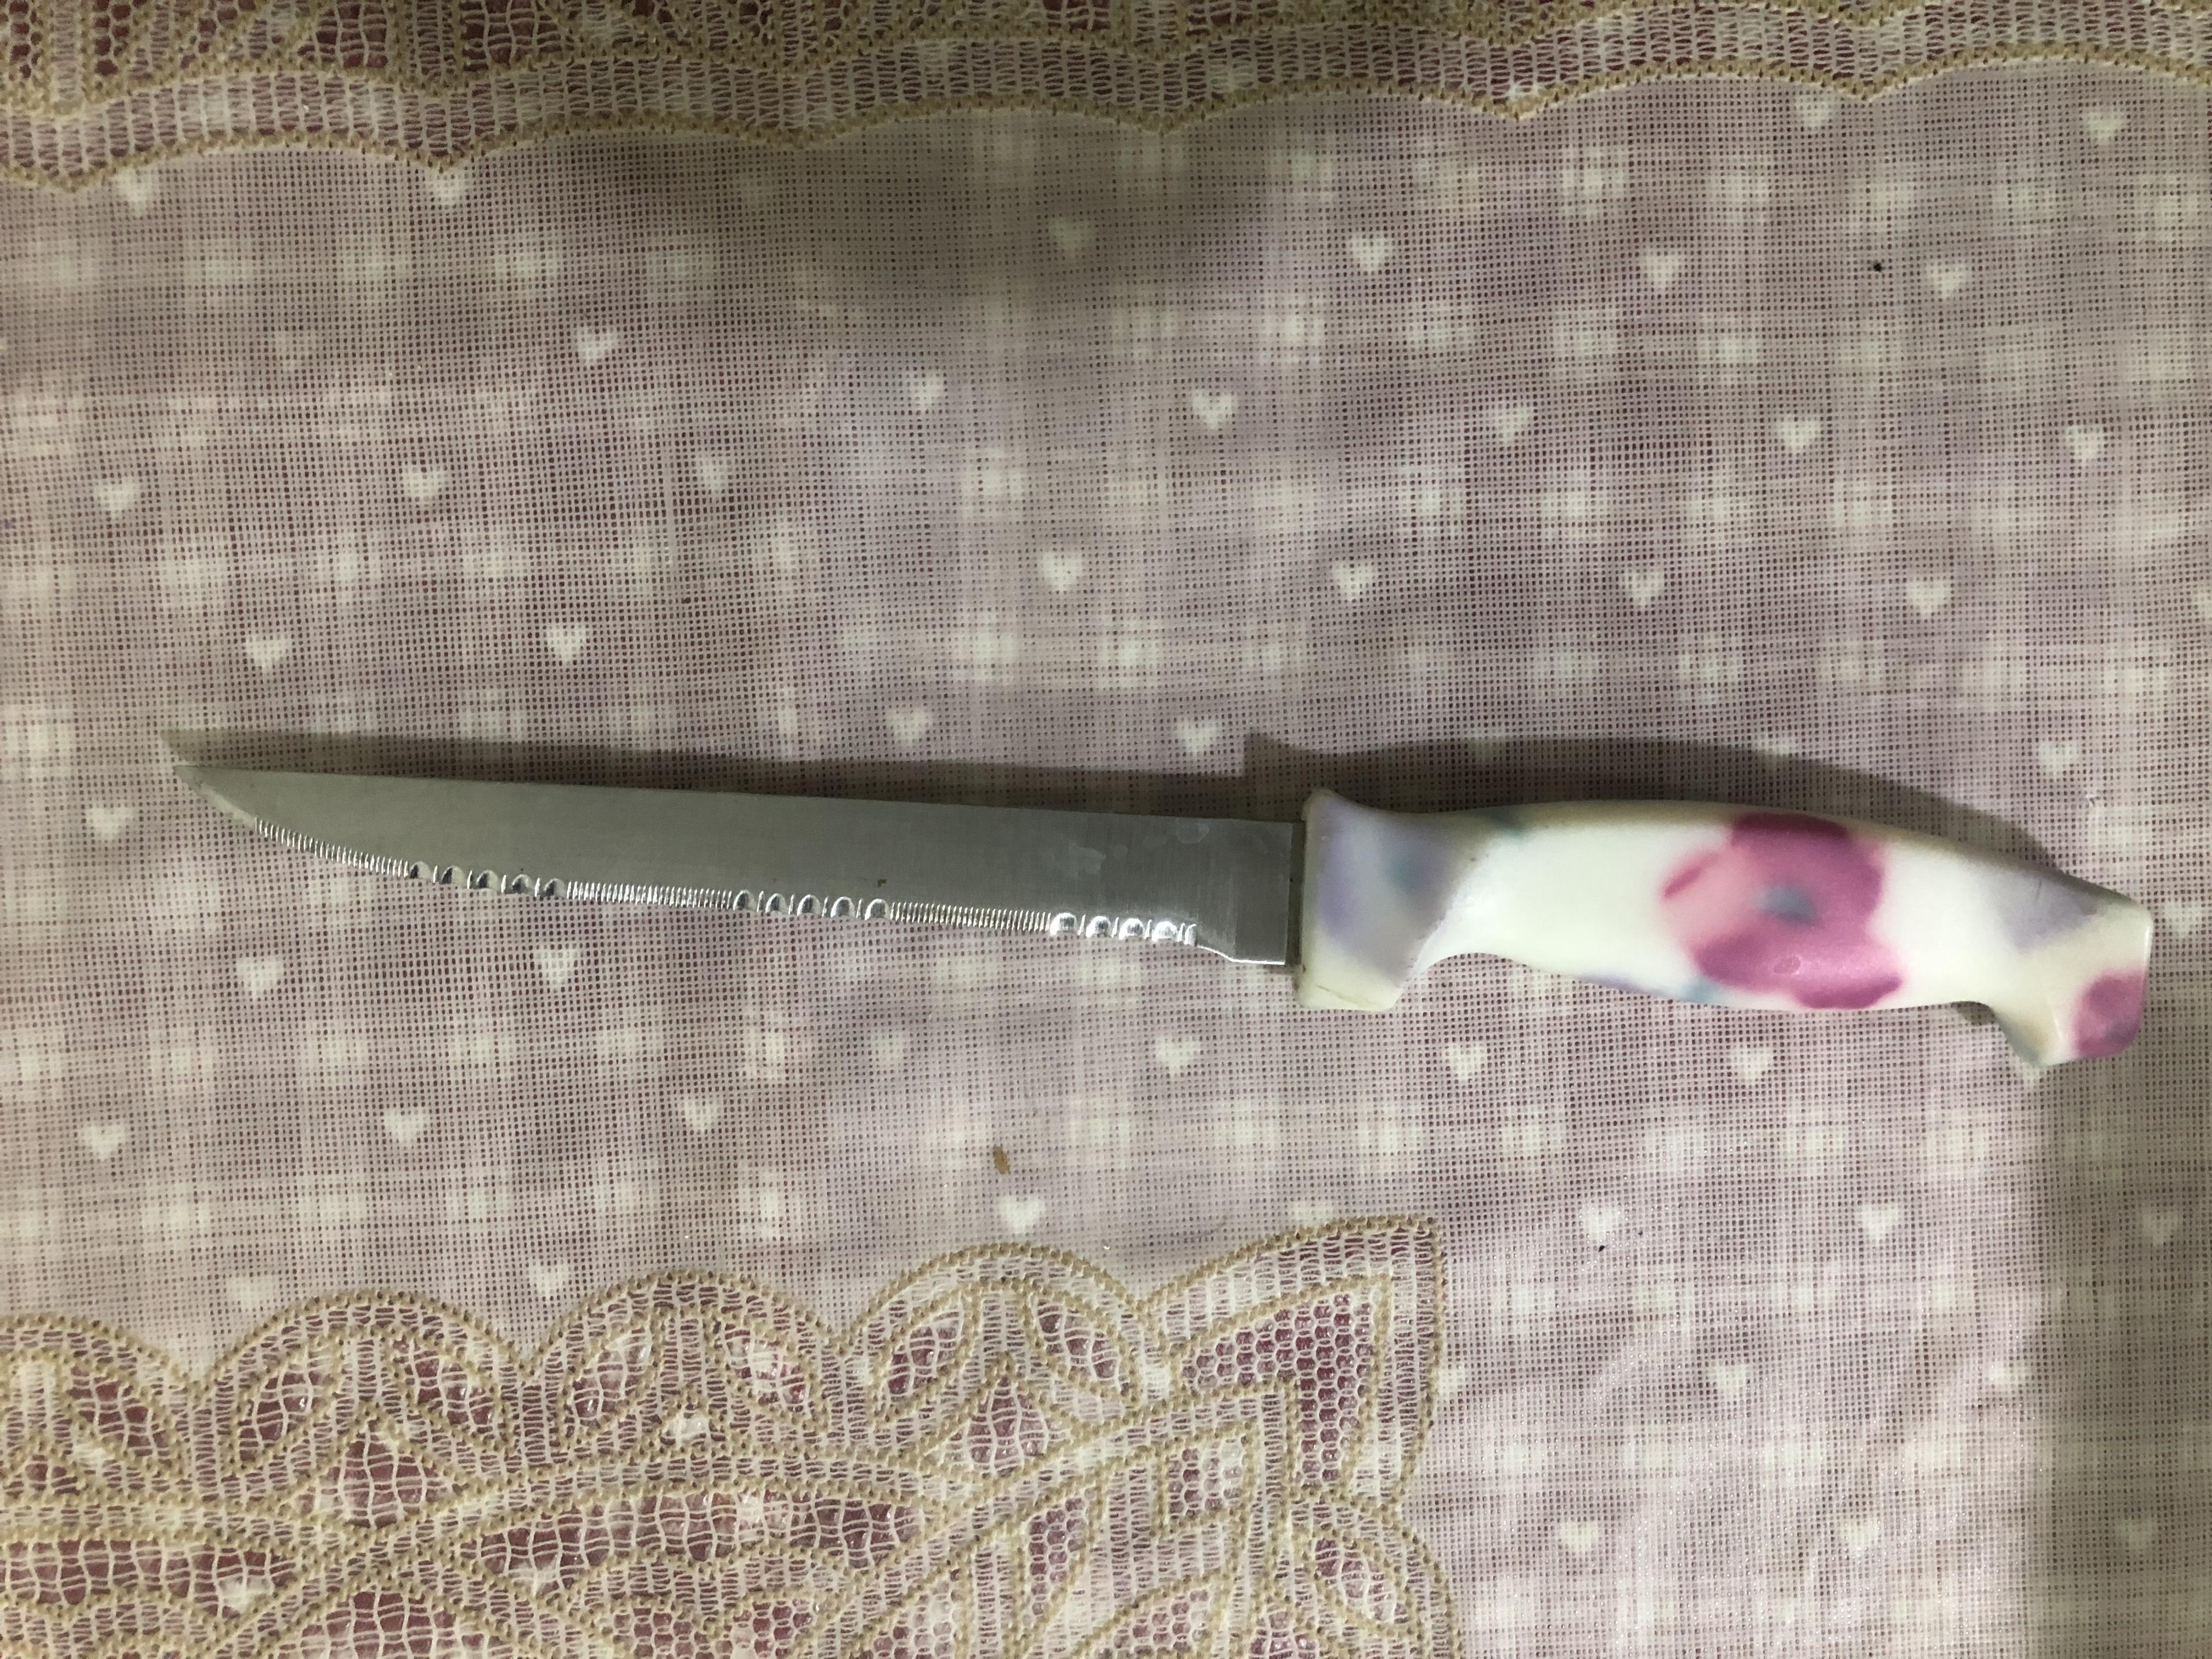weapon: (777, 138, 1209, 1626)
